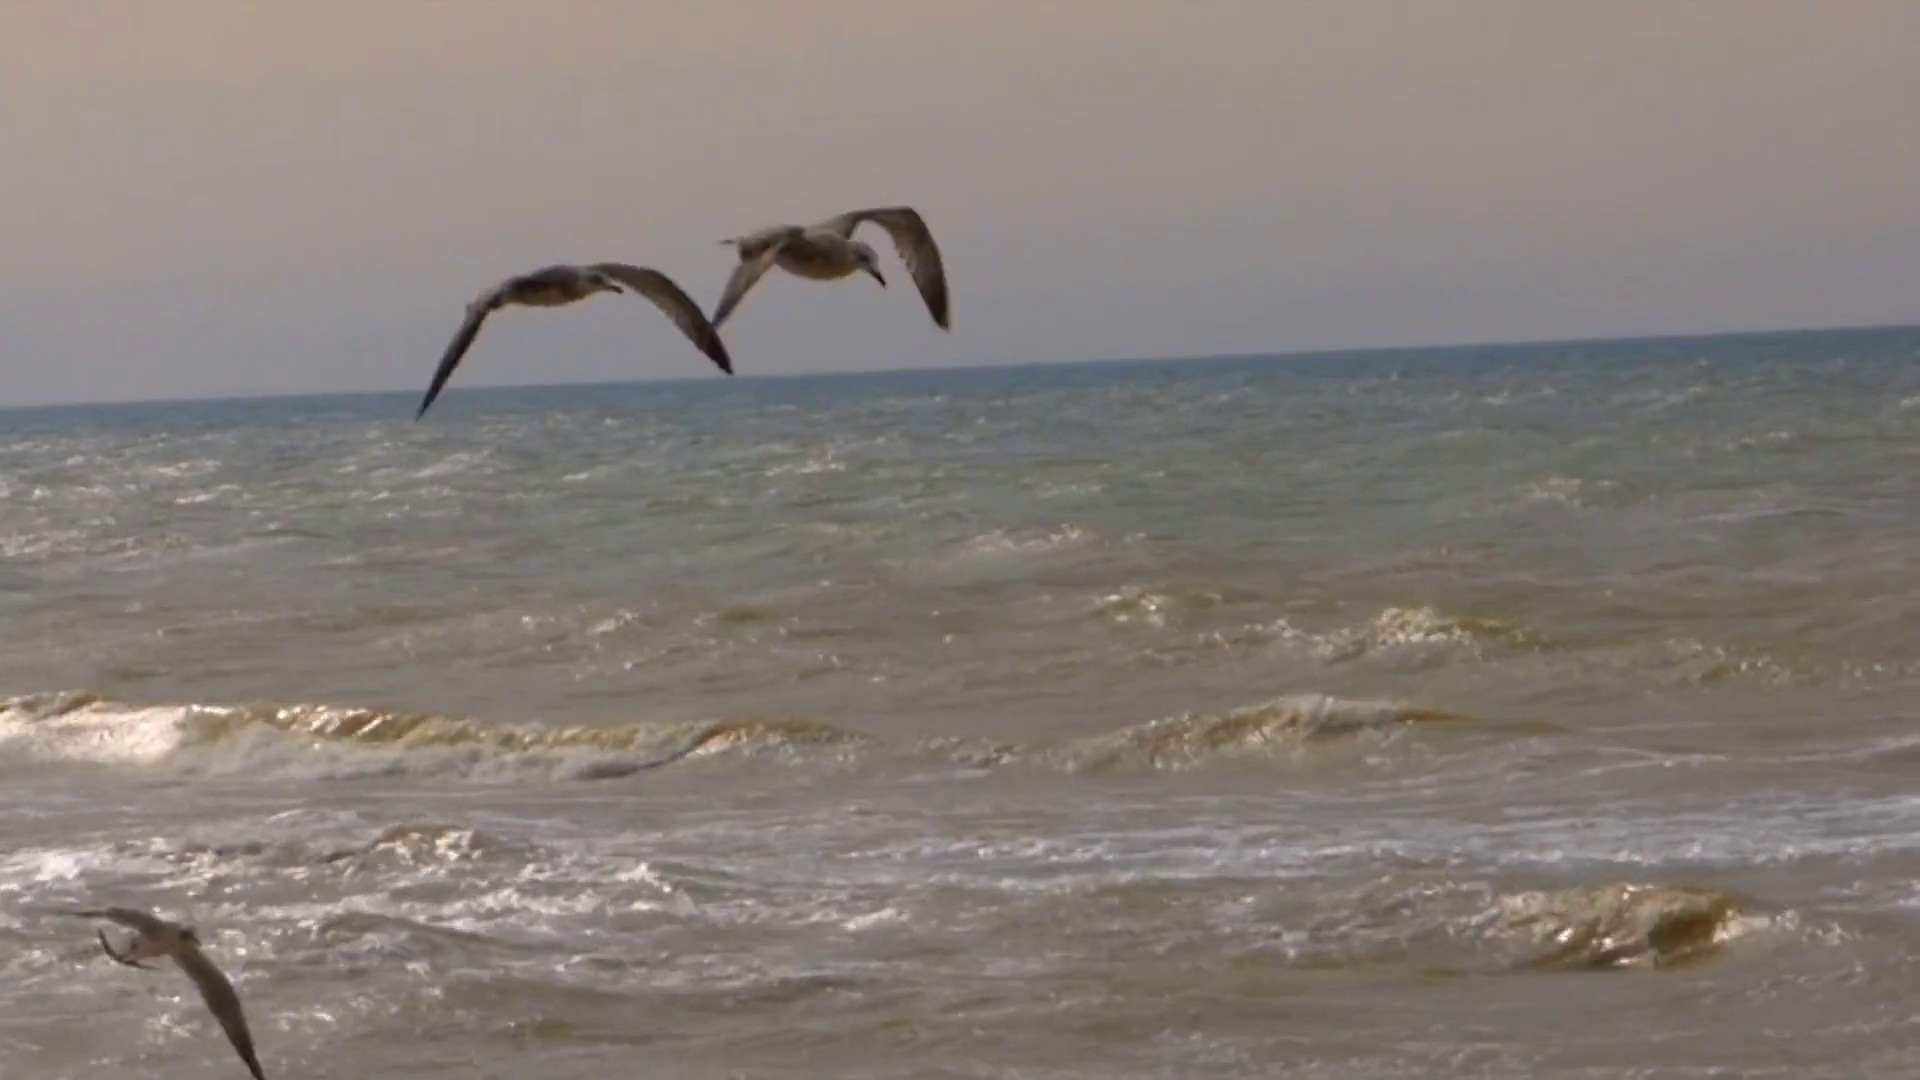bird: (411, 260, 733, 421), (61, 905, 264, 1079), (704, 206, 945, 340)
